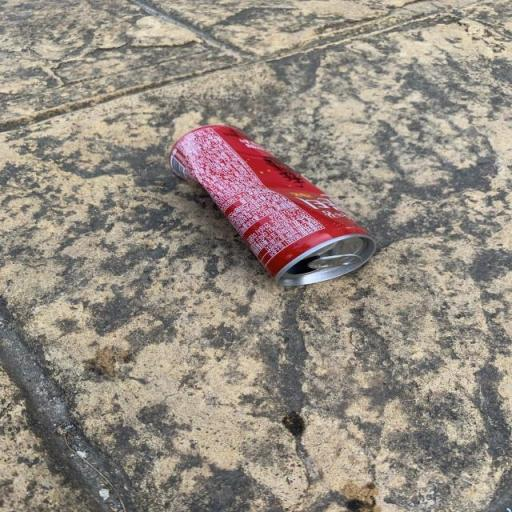metal: (156, 108, 394, 304)
